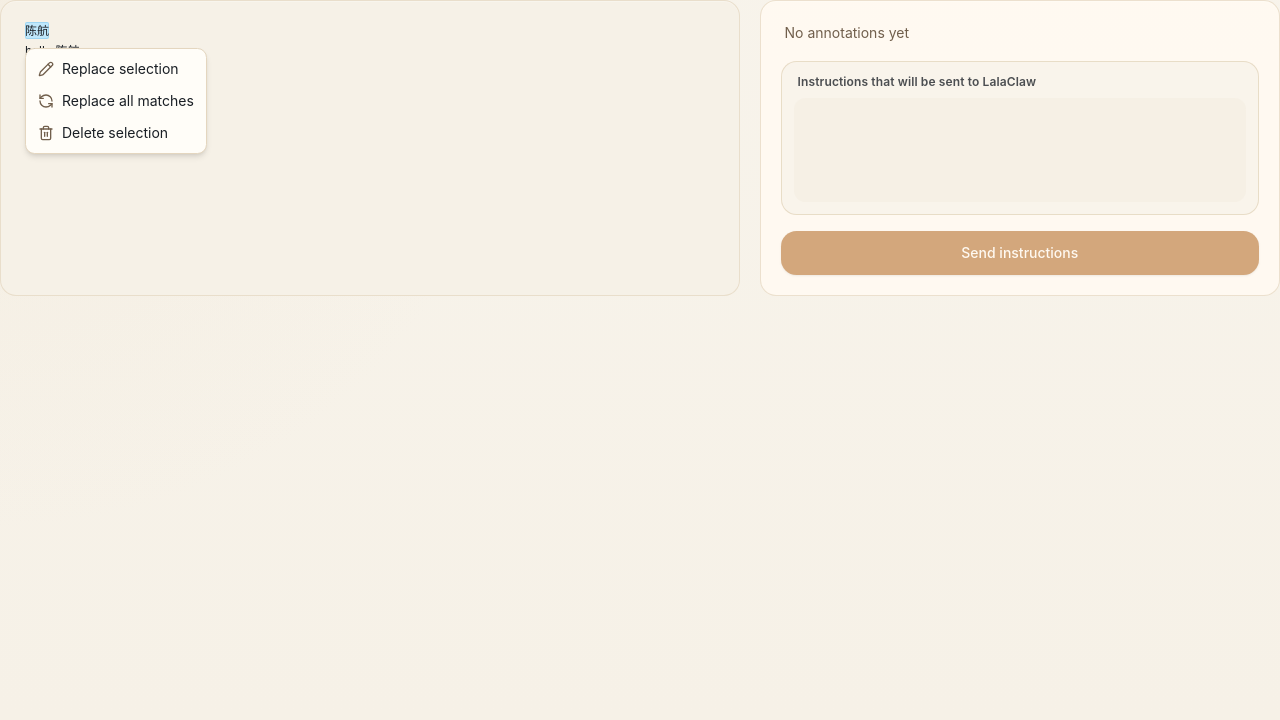
Test: MarkdownPreviewAnnotationWorkbench › clears the temporary selection menu and highlight when the user clicks away without choosing an action
The width and height of the screenshot is (1280, 720).
Expected: the menu with test id "markdown-preview-annotation-actions" is shown, 25,48 -> 207,154
Expected: the text "陈航" is shown, 25,22 -> 49,39
Press the mouse on the element that starts with "Replace selection" at x=640, y=360, box 0,0 -> 1279,719
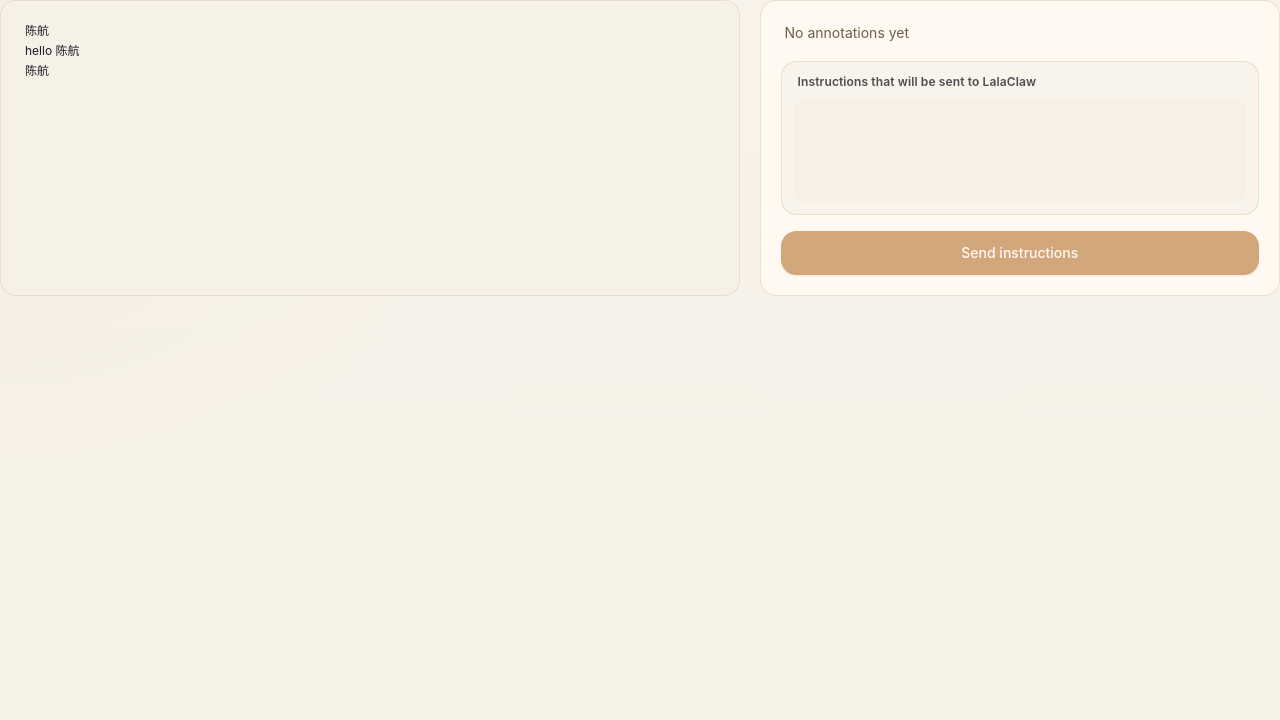
Expected: the menu with test id "markdown-preview-annotation-actions" is gone
